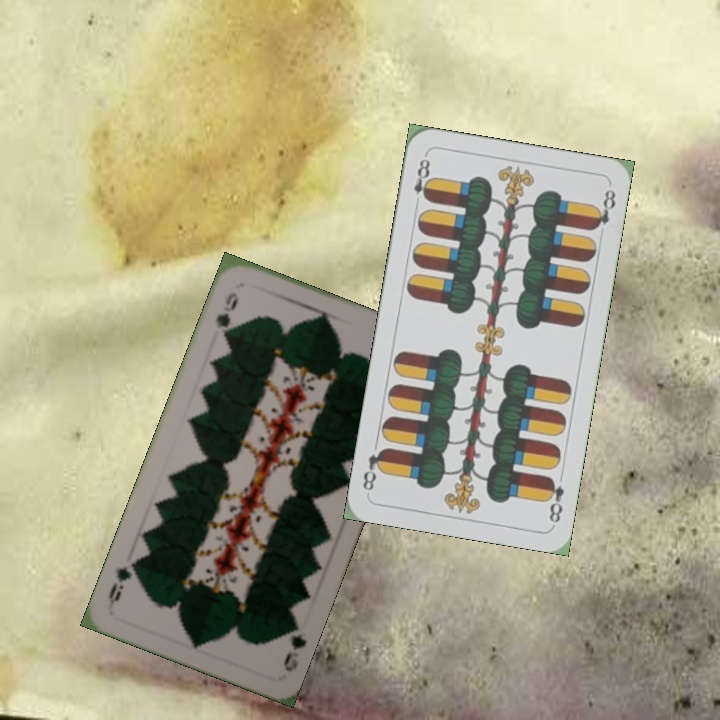E8: (409, 151, 435, 204), (541, 472, 567, 525)
G9: (279, 617, 310, 674), (212, 288, 241, 342)
